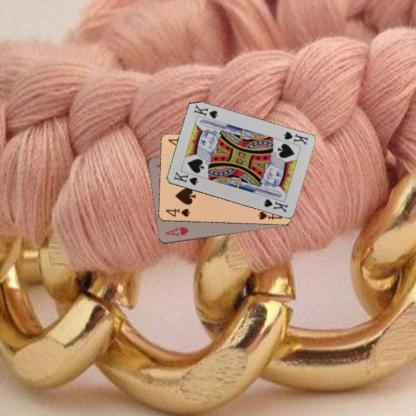4s: (163, 206, 191, 218)
Ah: (162, 224, 190, 238)
Ks: (280, 129, 310, 147), (170, 169, 199, 187)
